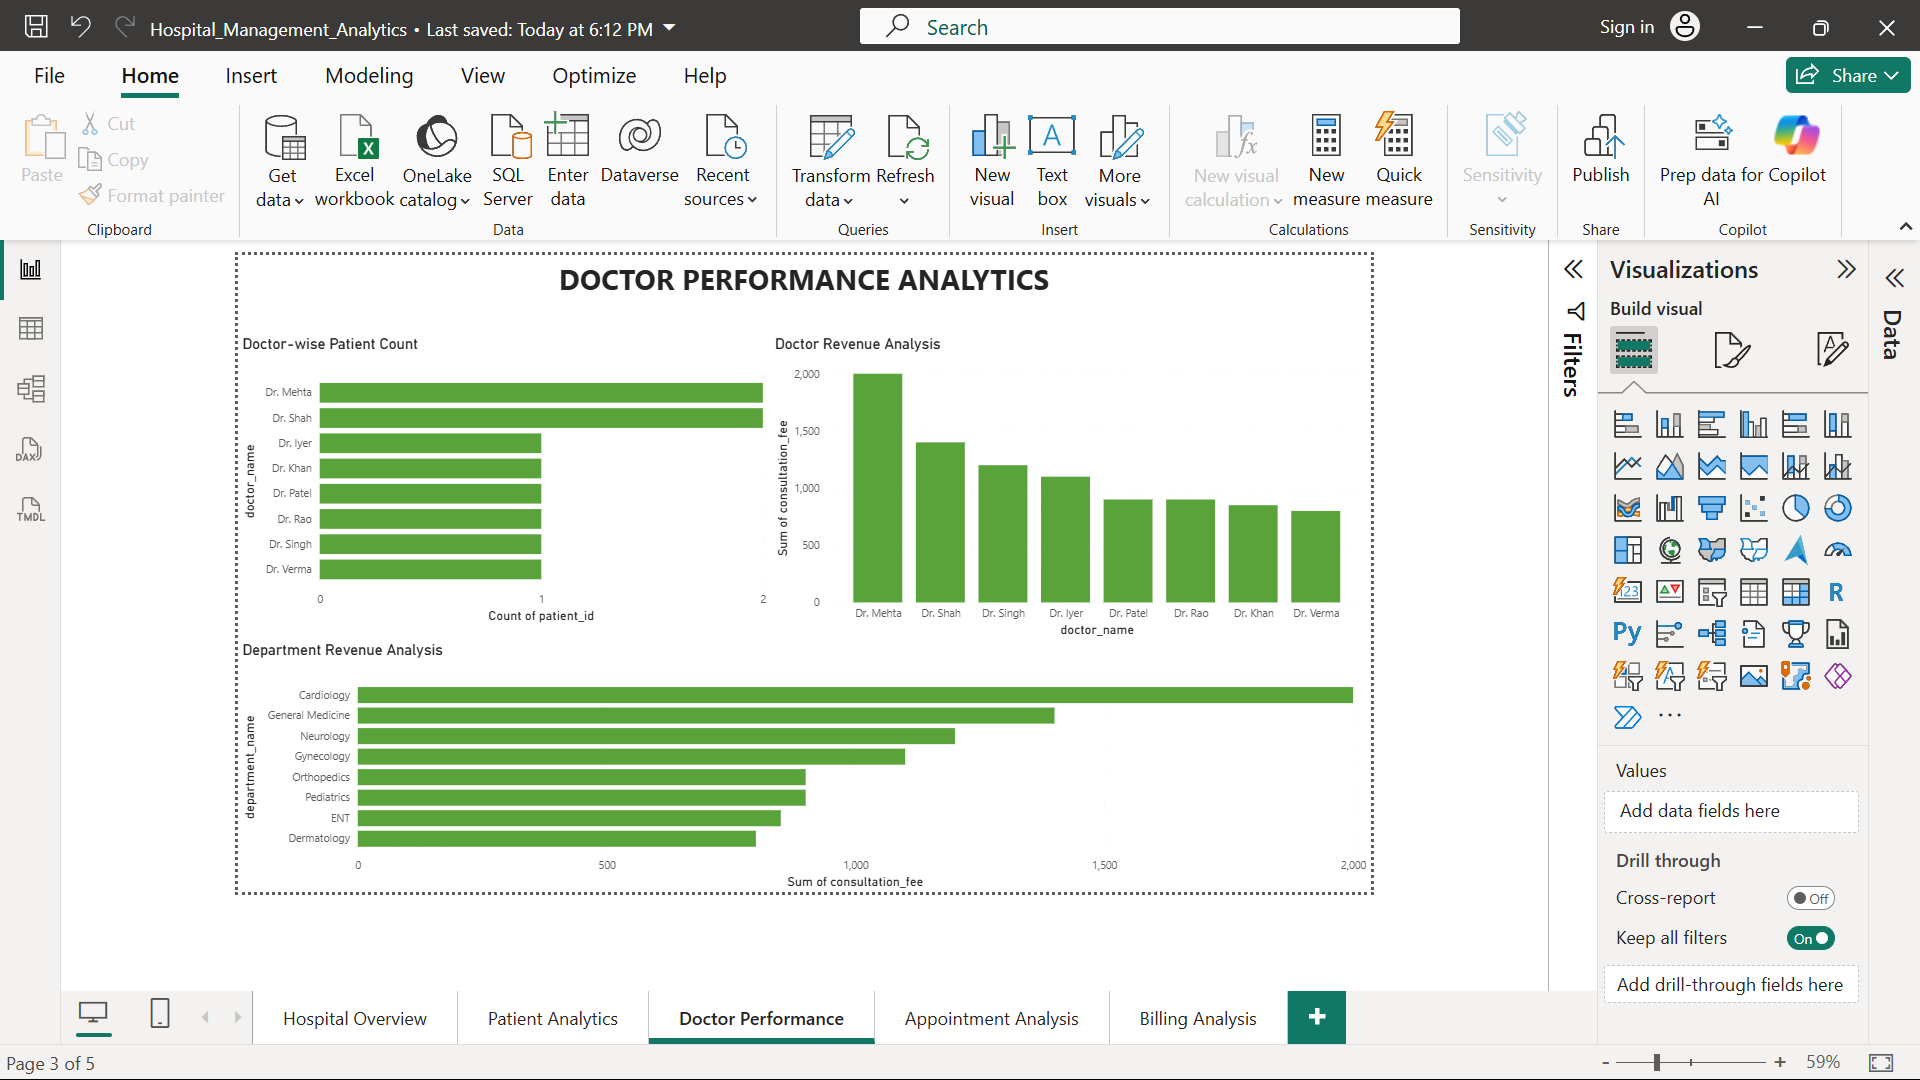

This screenshot's page, from the dashboard's own definition file:
{"tool":"powerbi","page":{"name":"Doctor Performance","canvas":[1280,720],"ordinal":2},"visuals":[{"type":"clusteredBarChart","title":"Doctor-wise Patient Count","fields":{"Category":["hospital_db doctors.doctor_name","hospital_db appointments.doctor_id"],"Y":["CountNonNull(hospital_db appointments.patient_id)"]},"box":[0,89.8,601.7,330.5],"z":0},{"type":"clusteredColumnChart","title":"Doctor Revenue Analysis","fields":{"Category":["hospital_db doctors.doctor_name"],"Y":["Sum(hospital_db appointments.consultation_fee)"]},"box":[601.7,89.8,678,345.8],"z":1000},{"type":"clusteredBarChart","title":"Department Revenue Analysis","fields":{"Category":["hospital_db departments.department_name"],"Y":["Sum(hospital_db appointments.consultation_fee)"]},"box":[0,435.6,1279.7,284.7],"z":2000},{"type":"textbox","box":[0,0,1279.7,57.6],"z":4000}]}

Visuals, with their boxes on the page's 1280x720 design canvas (x1, y1, x2, y2). These are canvas units, not pixel positions in the 1920x1080 screenshot, which may show the page scaled, cropped or inside an application window:
"Doctor-wise Patient Count" clusteredBarChart: Rect(0, 90, 602, 420)
"Doctor Revenue Analysis" clusteredColumnChart: Rect(602, 90, 1280, 436)
"Department Revenue Analysis" clusteredBarChart: Rect(0, 436, 1280, 720)
textbox: Rect(0, 0, 1280, 58)
